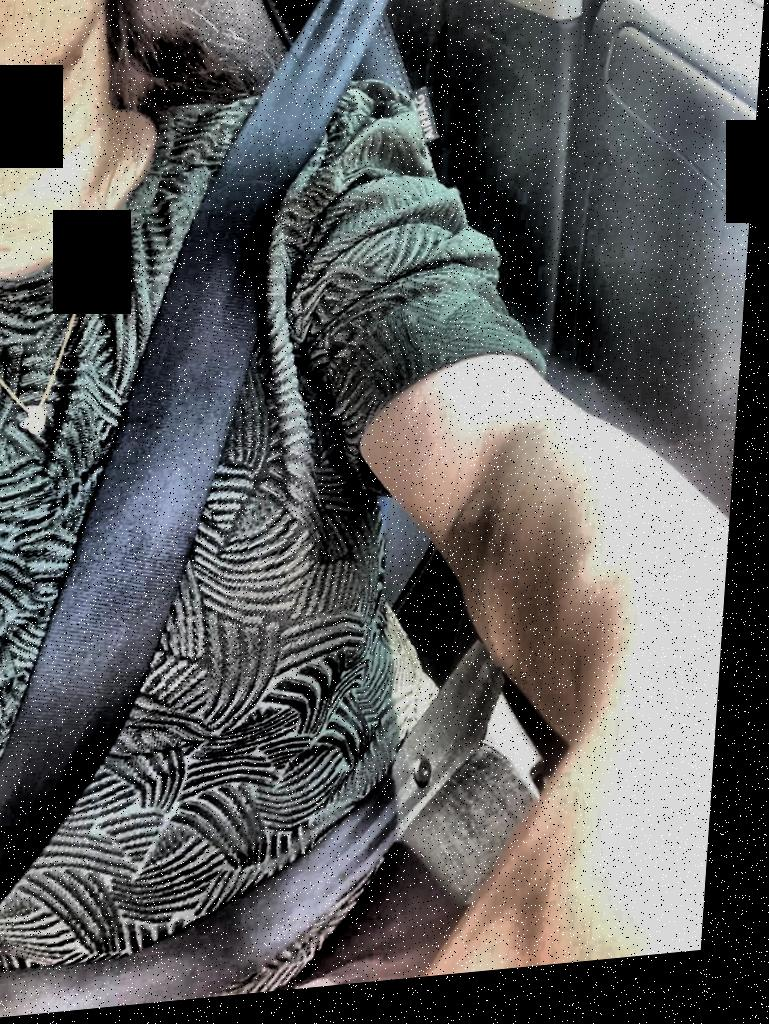seatbelt: (0, 0, 416, 1022)
